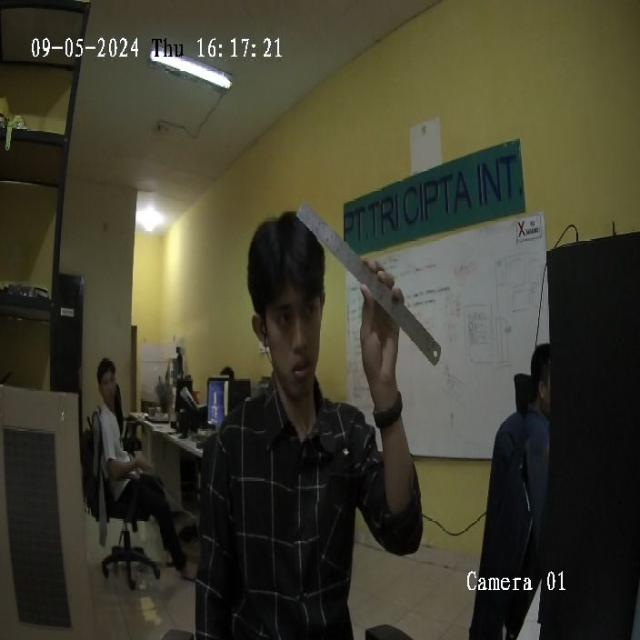Ruler: (296, 203, 440, 363)
